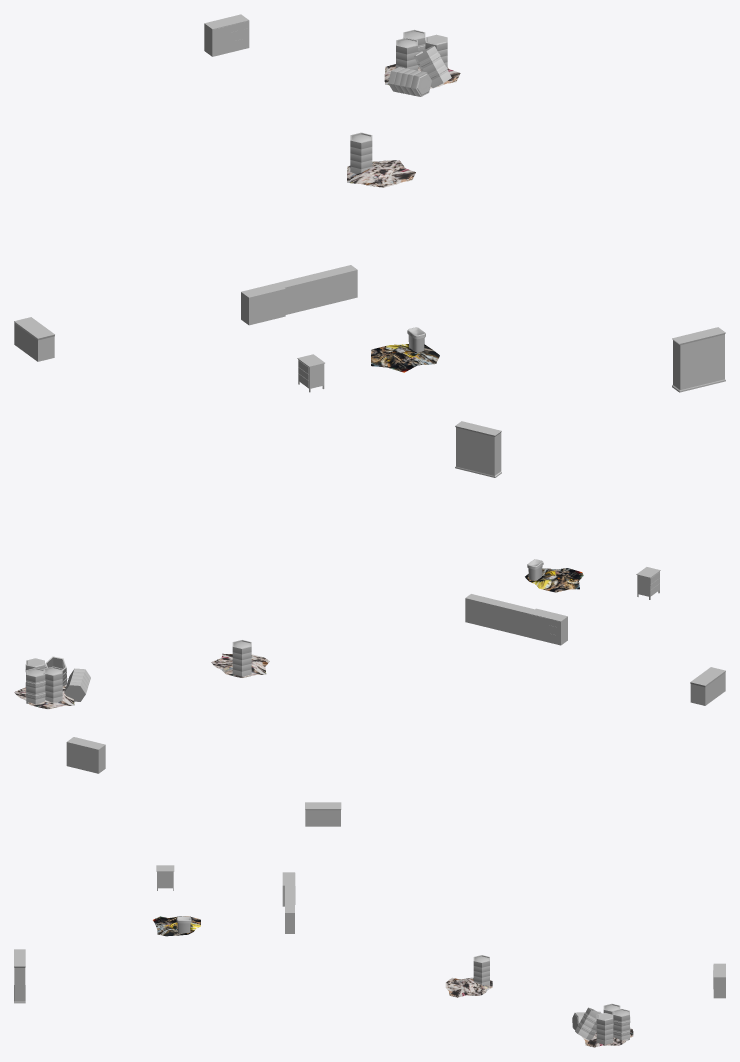
Rendered from Asset Main Building_V2.fbx_Lorong.fbx.
3 views of the same model, one above another, from view 1: azimuth 30°, elevation 25°; view 2: azimuth 150°, elevation 25°; view 3: azimuth 270°, elevation 25° (orthographic). The views are drawn at different scales.
Parts seen in each view (by area): view 1: Fitment, Chest_drawers_04.014, sampah.001, Bookcase.002, Chest_drawers_04.020, sampah.004, Chest_drawers_04, Cylinder005, Cylinder001.001, Cylinder008, Chest_drawers_04.031, Chest_drawers_01.008 (+1 smaller); view 2: Fitment, Chest_drawers_04.031, Bookcase.002, Chest_drawers_04, Chest_drawers_04.020, sampah.001, Cylinder001.001, Cylinder003, sampah.004, Cylinder005, Cylinder001, Chest_drawers_04.014; view 3: Bookcase.002, sampah.004, Fitment, sampah.001, Cylinder004, Cylinder003, Cylinder008, Cylinder001.001, Chest_drawers_04.031, Chest_drawers_01.008.
Boxes of the visible parts, box(x1,y1,x2,y2) form: Fitment: box(672, 327, 725, 392); Chest_drawers_04.014: box(241, 283, 285, 325); sampah.001: box(371, 344, 439, 372); Bookcase.002: box(14, 317, 54, 361); Chest_drawers_04.020: box(314, 265, 357, 306); sampah.004: box(347, 160, 415, 187); Chest_drawers_04: box(278, 274, 320, 314); Cylinder005: box(388, 67, 431, 96); Cylinder001.001: box(350, 132, 372, 173); Cylinder008: box(414, 46, 451, 88); Chest_drawers_04.031: box(204, 14, 249, 56); Chest_drawers_01.008: box(297, 354, 324, 392); Fitment: box(455, 421, 501, 477); Chest_drawers_04.031: box(66, 737, 105, 773); Bookcase.002: box(690, 667, 725, 705); Chest_drawers_04: box(497, 601, 534, 637); Chest_drawers_04.020: box(465, 594, 502, 629); sampah.001: box(525, 568, 583, 592); Cylinder001.001: box(232, 640, 251, 676); Cylinder003: box(26, 668, 45, 704); sampah.004: box(211, 653, 269, 677); Cylinder005: box(64, 668, 90, 701); Cylinder001: box(43, 666, 62, 702); Chest_drawers_04.014: box(529, 608, 567, 645); Bookcase.002: box(305, 802, 341, 826); sampah.004: box(445, 977, 492, 997); Fitment: box(14, 949, 25, 1003); sampah.001: box(153, 916, 200, 936); Cylinder004: box(596, 1013, 613, 1045); Cylinder003: box(613, 1009, 630, 1040); Cylinder008: box(575, 1007, 600, 1039); Cylinder001.001: box(473, 955, 489, 985); Chest_drawers_04.031: box(713, 963, 725, 998); Chest_drawers_01.008: box(156, 865, 174, 890).
Size of the model in its own units: 18150 by 1523 by 24060.
